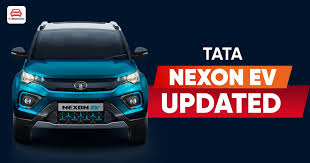Tata Nexon: (10, 18, 150, 149)
